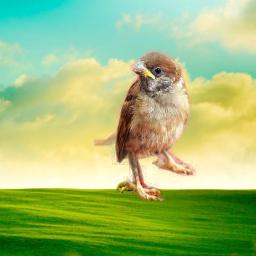Sparrow: (92, 50, 197, 201)
